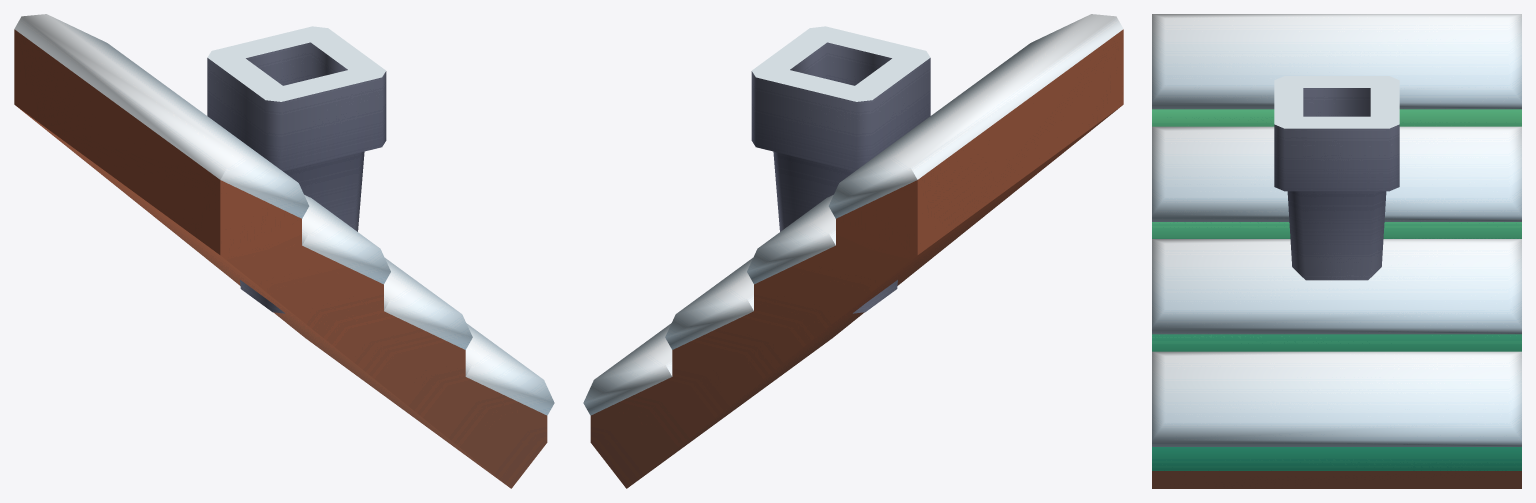
Rendered from cabin-roof-snow-chimney.glb.
The picture shows the model from 3 angles, left to right: view 1: azimuth 30°, elevation 25°; view 2: azimuth 150°, elevation 25°; view 3: azimuth 270°, elevation 25°; orthographic projection. The views are drawn at different scales.
Visible parts, largest first — view 1: cabin-roof-snow-chimney; view 2: cabin-roof-snow-chimney; view 3: cabin-roof-snow-chimney.
Boxes of the visible parts, x1,y1,x2,y2 form: cabin-roof-snow-chimney: (14,14,554,488); cabin-roof-snow-chimney: (583,14,1123,488); cabin-roof-snow-chimney: (1152,14,1521,488).
Bounding box in the file's own units: 3.93 × 4.43 × 4.2.
1 material, 1 textured.
